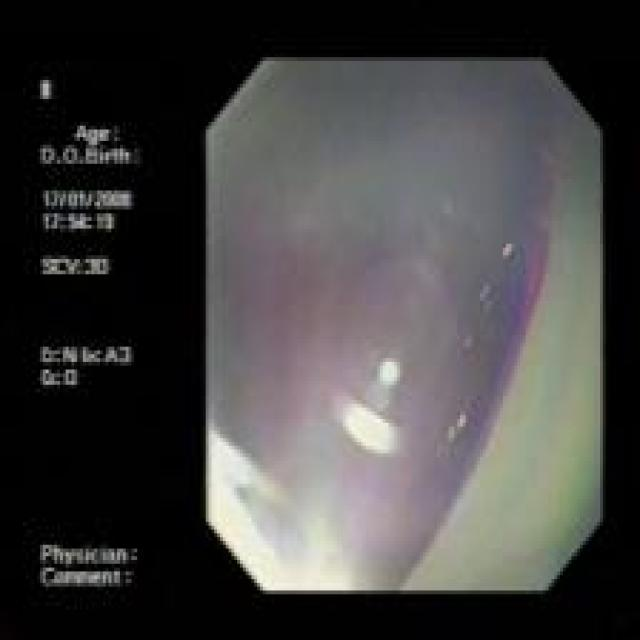color misalignment: (206, 58, 601, 590), (38, 78, 142, 588)
specularity: (342, 400, 396, 457)
